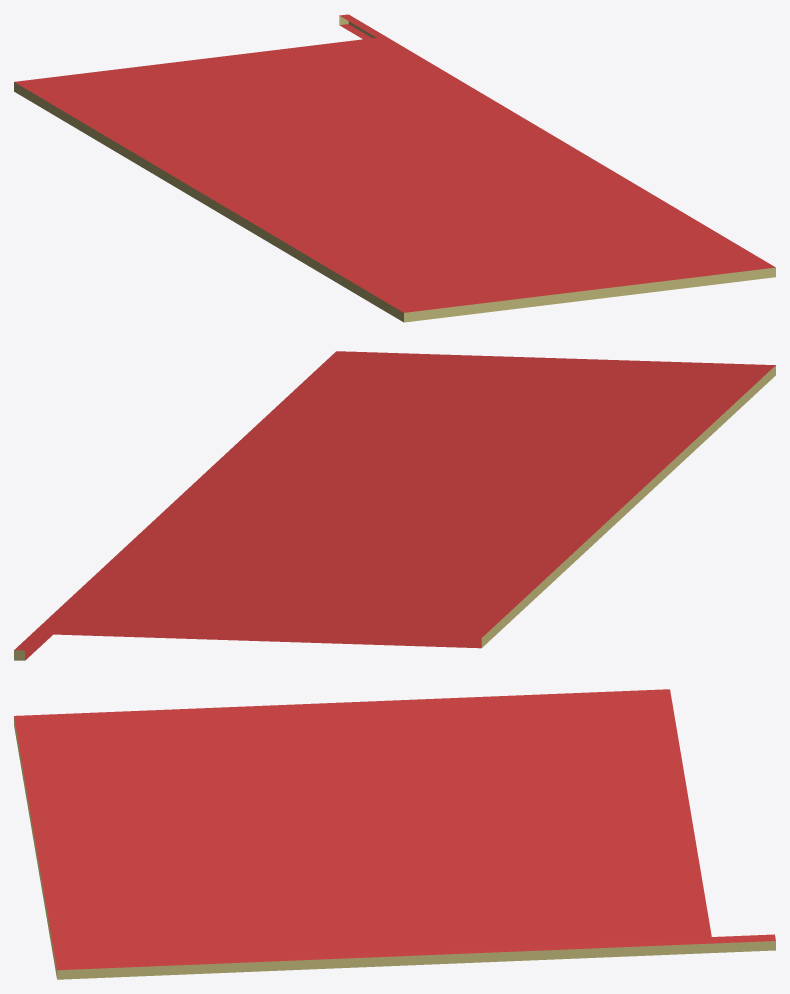
The picture shows the model from 3 angles, top to bottom: view 1: azimuth 30°, elevation 25°; view 2: azimuth 150°, elevation 25°; view 3: azimuth 270°, elevation 25°; orthographic projection. The views are drawn at different scales.
Bounding box in the file's own units: 4.86 × 7.26 × 0.79.
